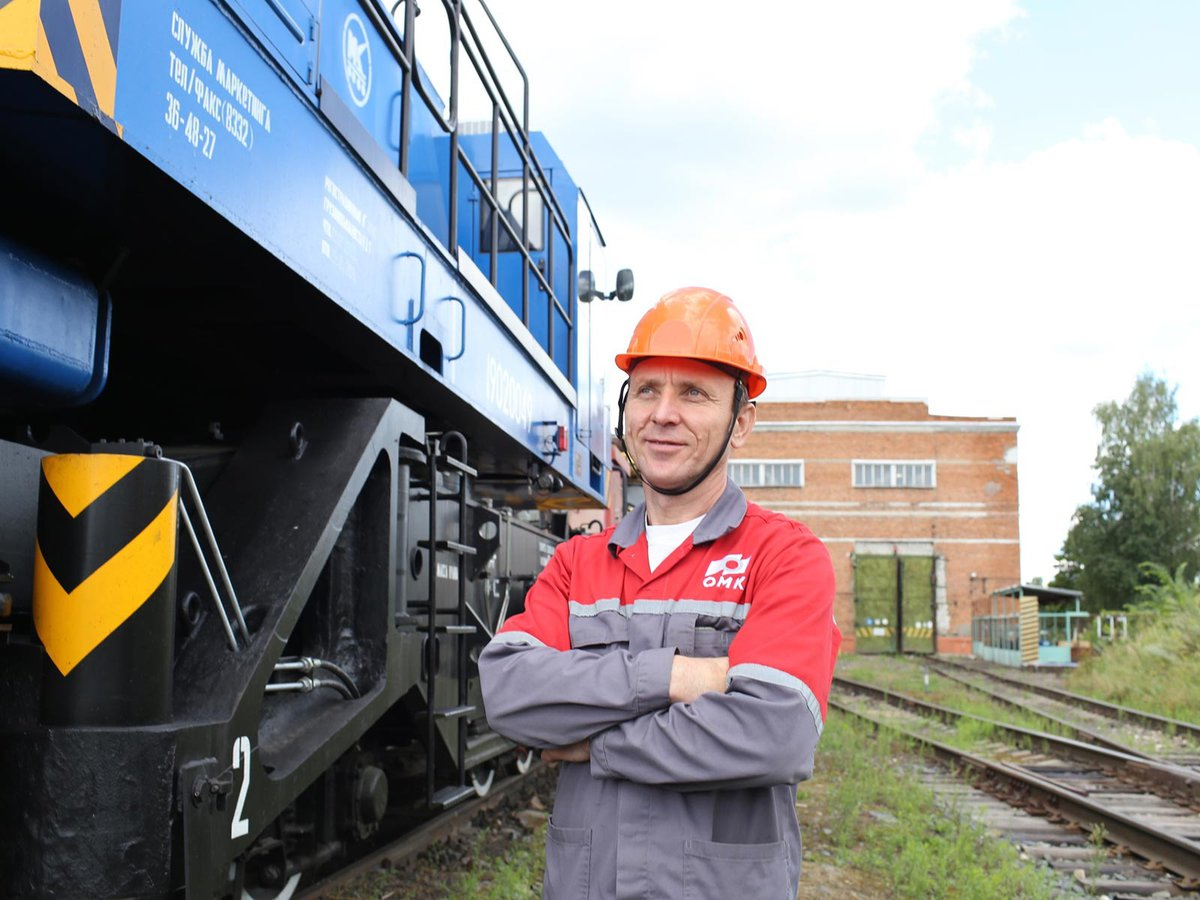person: (476, 286, 842, 900)
